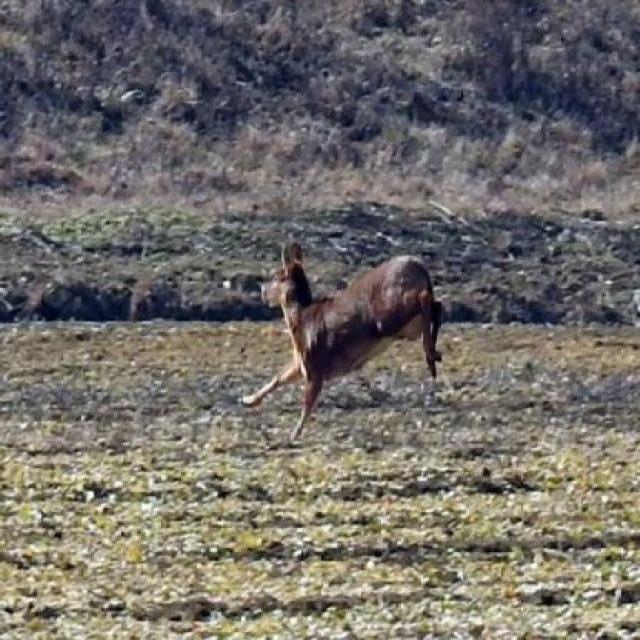deer: (228, 226, 464, 469)
